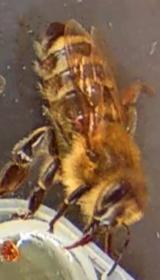varroa_mite: (66, 97, 98, 141)
